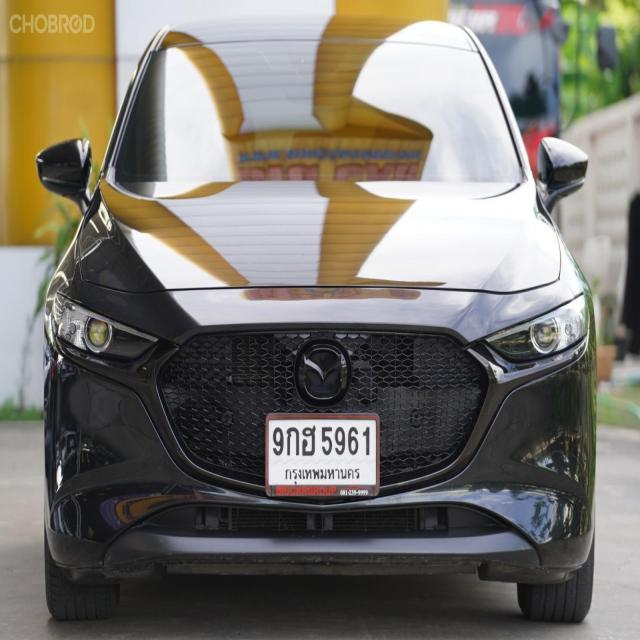license_plate: (262, 406, 384, 505)
